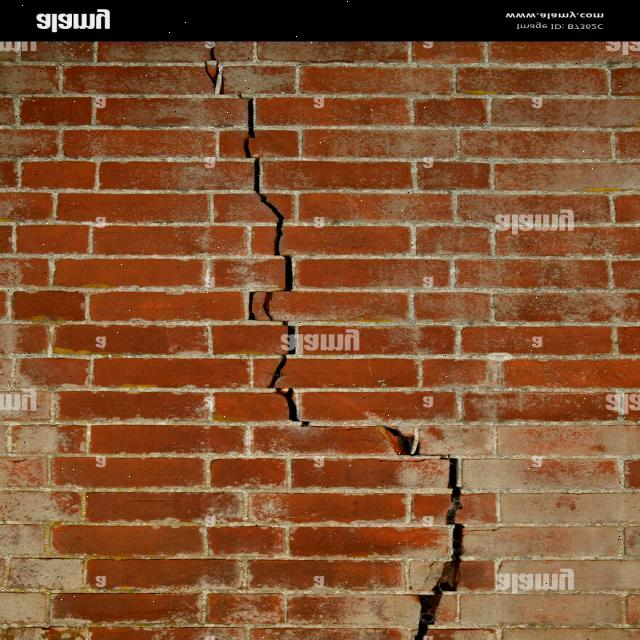crack: (112, 26, 556, 640)
